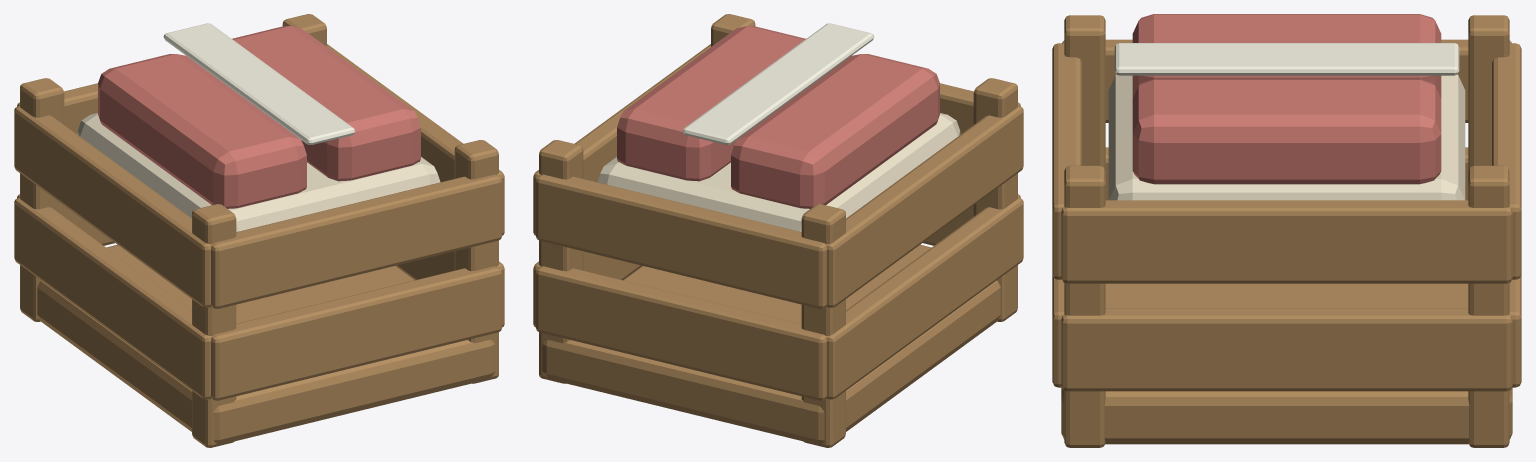
Rendered from MeatBox.fbx.
The picture shows the model from 3 angles, left to right: view 1: azimuth 30°, elevation 25°; view 2: azimuth 150°, elevation 25°; view 3: azimuth 270°, elevation 25°; orthographic projection. The views are drawn at different scales.
Visible parts, largest first — view 1: 采购_鲜肉筐_筐底, 采购_鲜肉筐_筐边.006, 采购_鲜肉筐_筐边.002, 采购_鲜肉筐_肉片, 采购_鲜肉筐_筐边.004, 采购_鲜肉筐_筐边, 采购_鲜肉筐_肉片.001, 采购_鲜肉筐_冰鲜盘, 采购_鲜肉筐_白色腰封, 采购_鲜肉筐_角, 采购_鲜肉筐_角.001, 采购_鲜肉筐_角.002 (+5 smaller); view 2: 采购_鲜肉筐_筐底, 采购_鲜肉筐_筐边.007, 采购_鲜肉筐_筐边.003, 采购_鲜肉筐_肉片, 采购_鲜肉筐_筐边.004, 采购_鲜肉筐_筐边, 采购_鲜肉筐_肉片.001, 采购_鲜肉筐_冰鲜盘, 采购_鲜肉筐_白色腰封, 采购_鲜肉筐_角.001, 采购_鲜肉筐_角, 采购_鲜肉筐_角.003 (+5 smaller); view 3: 采购_鲜肉筐_筐边.001, 采购_鲜肉筐_筐边.005, 采购_鲜肉筐_肉片.001, 采购_鲜肉筐_筐底, 采购_鲜肉筐_冰鲜盘, 采购_鲜肉筐_白色腰封, 采购_鲜肉筐_肉片, 采购_鲜肉筐_角.002, 采购_鲜肉筐_角.003, 采购_鲜肉筐_筐边.006, 采购_鲜肉筐_筐边.007, 采购_鲜肉筐_角 (+4 smaller).
Part boxes in pixels (bbox=[...]): 采购_鲜肉筐_筐底: bbox=[37, 244, 495, 445]; 采购_鲜肉筐_筐边.006: bbox=[211, 174, 501, 308]; 采购_鲜肉筐_筐边.002: bbox=[211, 266, 501, 400]; 采购_鲜肉筐_肉片: bbox=[98, 54, 306, 208]; 采购_鲜肉筐_筐边.004: bbox=[14, 106, 211, 307]; 采购_鲜肉筐_筐边: bbox=[14, 197, 211, 399]; 采购_鲜肉筐_肉片.001: bbox=[232, 26, 420, 181]; 采购_鲜肉筐_冰鲜盘: bbox=[77, 113, 440, 231]; 采购_鲜肉筐_白色腰封: bbox=[163, 23, 355, 144]; 采购_鲜肉筐_角: bbox=[192, 204, 236, 447]; 采购_鲜肉筐_角.001: bbox=[20, 78, 64, 321]; 采购_鲜肉筐_角.002: bbox=[454, 140, 498, 383]; 采购_鲜肉筐_筐底: bbox=[542, 244, 1000, 445]; 采购_鲜肉筐_筐边.007: bbox=[536, 174, 826, 308]; 采购_鲜肉筐_筐边.003: bbox=[536, 266, 826, 400]; 采购_鲜肉筐_肉片: bbox=[731, 54, 939, 208]; 采购_鲜肉筐_筐边.004: bbox=[826, 106, 1023, 307]; 采购_鲜肉筐_筐边: bbox=[826, 197, 1023, 399]; 采购_鲜肉筐_肉片.001: bbox=[617, 26, 805, 181]; 采购_鲜肉筐_冰鲜盘: bbox=[597, 113, 960, 231]; 采购_鲜肉筐_白色腰封: bbox=[682, 23, 874, 144]; 采购_鲜肉筐_角.001: bbox=[801, 204, 845, 447]; 采购_鲜肉筐_角: bbox=[973, 78, 1017, 321]; 采购_鲜肉筐_角.003: bbox=[539, 140, 583, 383]; 采购_鲜肉筐_筐边.001: bbox=[1061, 308, 1512, 391]; 采购_鲜肉筐_筐边.005: bbox=[1061, 200, 1512, 283]; 采购_鲜肉筐_肉片.001: bbox=[1132, 79, 1441, 184]; 采购_鲜肉筐_筐底: bbox=[1061, 283, 1512, 444]; 采购_鲜肉筐_冰鲜盘: bbox=[1108, 74, 1465, 200]; 采购_鲜肉筐_白色腰封: bbox=[1114, 43, 1459, 75]; 采购_鲜肉筐_肉片: bbox=[1132, 14, 1441, 98]; 采购_鲜肉筐_角.002: bbox=[1064, 165, 1105, 447]; 采购_鲜肉筐_角.003: bbox=[1468, 165, 1509, 447]; 采购_鲜肉筐_筐边.006: bbox=[1052, 43, 1081, 279]; 采购_鲜肉筐_筐边.007: bbox=[1492, 43, 1521, 279]; 采购_鲜肉筐_角: bbox=[1064, 15, 1105, 170].
Size of the model in its own units: 0.345 by 0.289 by 0.395.
